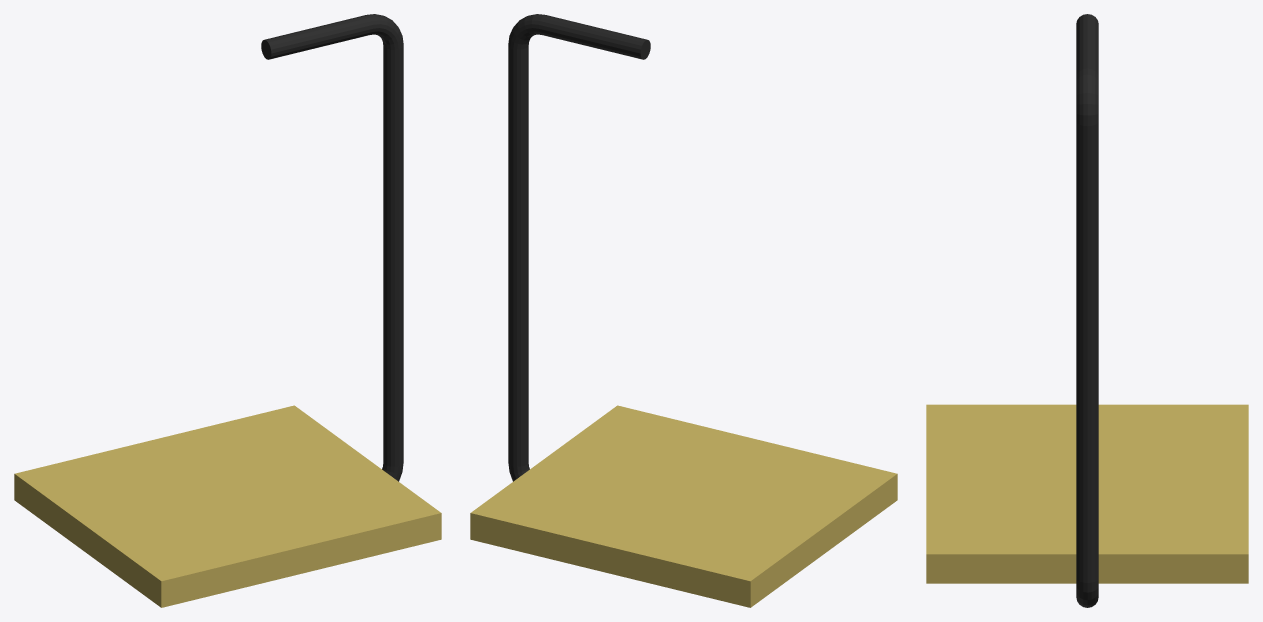
The model's file is YellowMetalMechSmallCradledPlatformLinkedLever1Cart.fbx.
The picture shows the model from 3 angles, left to right: view 1: azimuth 30°, elevation 25°; view 2: azimuth 150°, elevation 25°; view 3: azimuth 270°, elevation 25°; orthographic projection. The views are drawn at different scales.
Parts seen in each view (by area): view 1: YellowMetalMechSmallCradledPlatformLinkedLever1Cart, Cart_Cart_001, Cart_Cart_002, Cart_Cart_003; view 2: YellowMetalMechSmallCradledPlatformLinkedLever1Cart, Cart_Cart_001, Cart_Cart_002, Cart_Cart_003; view 3: YellowMetalMechSmallCradledPlatformLinkedLever1Cart, Cart_Cart_001, Cart_Cart_002, Cart_Cart_003, Cart_Cart_005.
Part boxes in pixels (<box>): YellowMetalMechSmallCradledPlatformLinkedLever1Cart: <box>14,405,441,607</box>; Cart_Cart_001: <box>383,46,403,466</box>; Cart_Cart_002: <box>261,15,373,59</box>; Cart_Cart_003: <box>367,14,403,49</box>; YellowMetalMechSmallCradledPlatformLinkedLever1Cart: <box>470,405,897,607</box>; Cart_Cart_001: <box>508,46,528,466</box>; Cart_Cart_002: <box>538,15,650,59</box>; Cart_Cart_003: <box>508,14,544,49</box>; YellowMetalMechSmallCradledPlatformLinkedLever1Cart: <box>926,404,1248,583</box>; Cart_Cart_001: <box>1076,122,1098,582</box>; Cart_Cart_002: <box>1076,14,1098,76</box>; Cart_Cart_003: <box>1076,68,1098,126</box>; Cart_Cart_005: <box>1076,579,1098,607</box>.
Bounding box in the file's own units: 247 × 367 × 200.
1 material, 1 textured.
